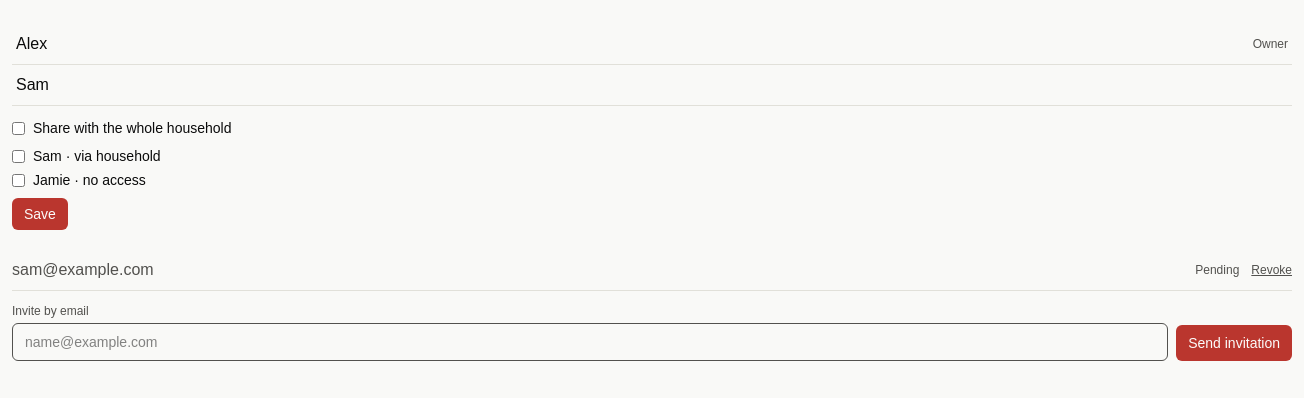
Scenario: MembersSection — pending invitees › surfaces a failed revoke instead of appearing to have worked
The width and height of the screenshot is (1304, 398).
Click the button with aria-label "Revoke invitation to sam@example.com" at coordinates (1272, 270), box [1251,262,1292,278]
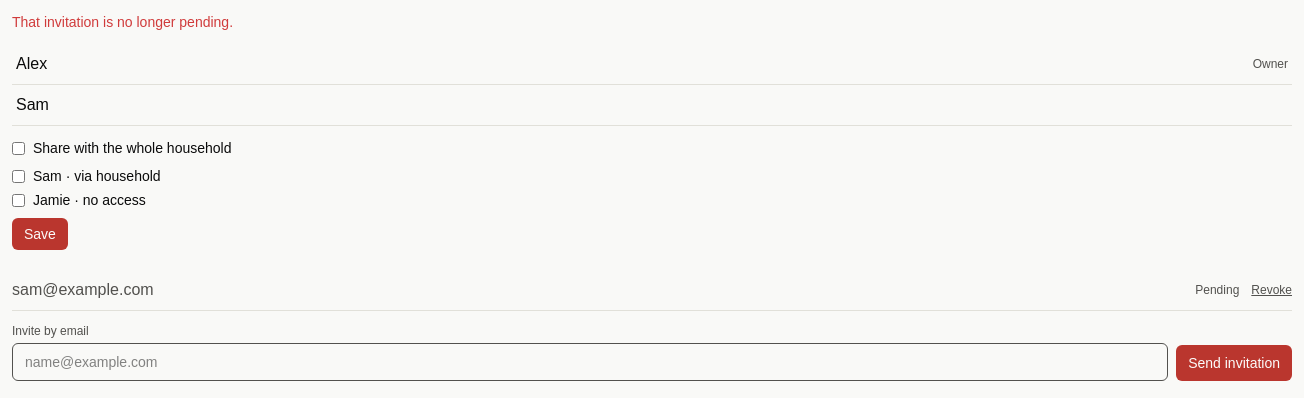
Now the message shows "no longer pending", box [12,14,233,30]
